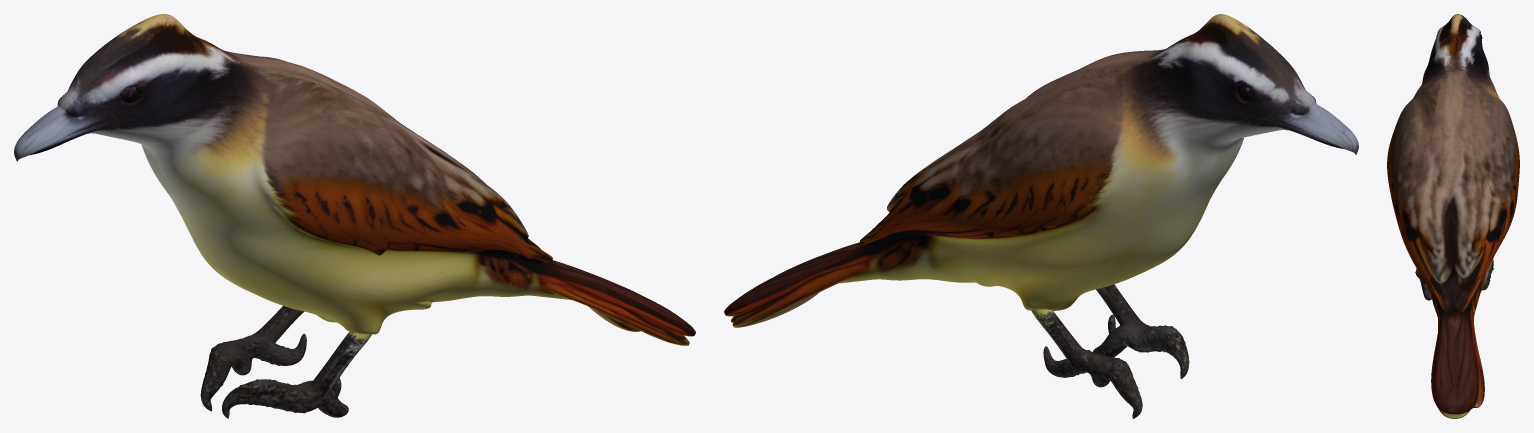
The model's file is n2__kiskadee.glb.
The picture shows the model from 3 angles, left to right: view 1: azimuth 30°, elevation 25°; view 2: azimuth 150°, elevation 25°; view 3: azimuth 270°, elevation 25°; orthographic projection. The views are drawn at different scales.
Parts seen in each view (by area): view 1: Object_2, Object_3; view 2: Object_2, Object_3; view 3: Object_3, Object_2.
Boxes of the visible parts, x1=… form: Object_2: x1=14, y1=14, x2=695, y2=418; Object_3: x1=19, y1=38, x2=667, y2=413; Object_2: x1=724, y1=14, x2=1358, y2=418; Object_3: x1=739, y1=35, x2=1345, y2=418; Object_3: x1=1388, y1=40, x2=1519, y2=394; Object_2: x1=1387, y1=14, x2=1519, y2=418.
Bounding box in the file's own units: 0.8424 × 0.5418 × 0.2536.
1 material, 1 textured.
